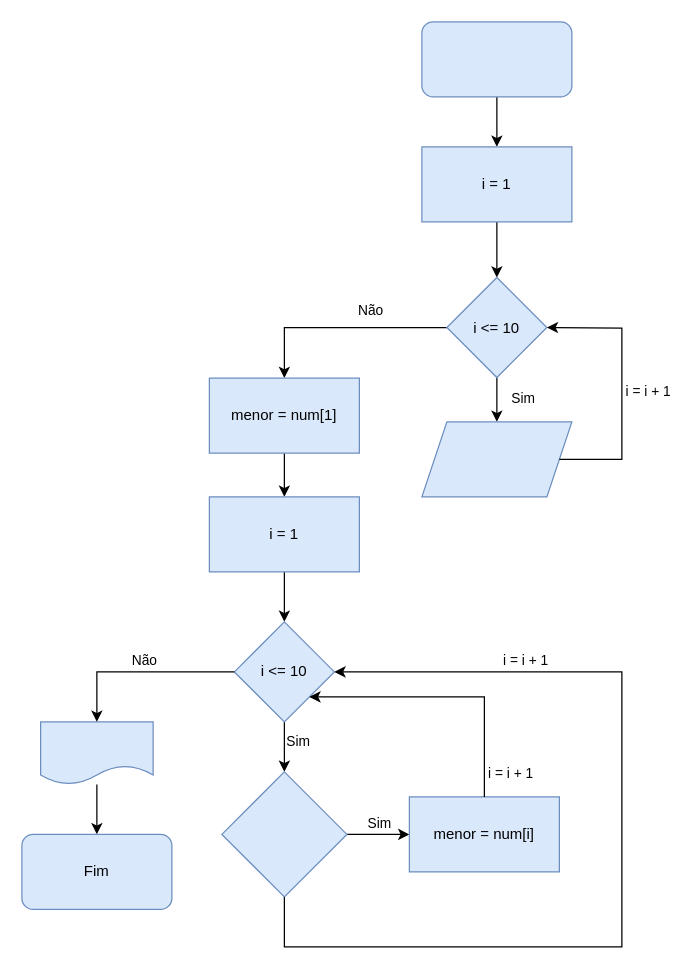
The diagram is 691 pixels wide and 979 high, and some of its shapes have lost their labels. Each missing label, with the centre of its shape:
"Início" belongs at (496,59).
"menor" belongs at (96,752).
"num[1] < menor" belongs at (284,834).
"num[i]" belongs at (496,459).
